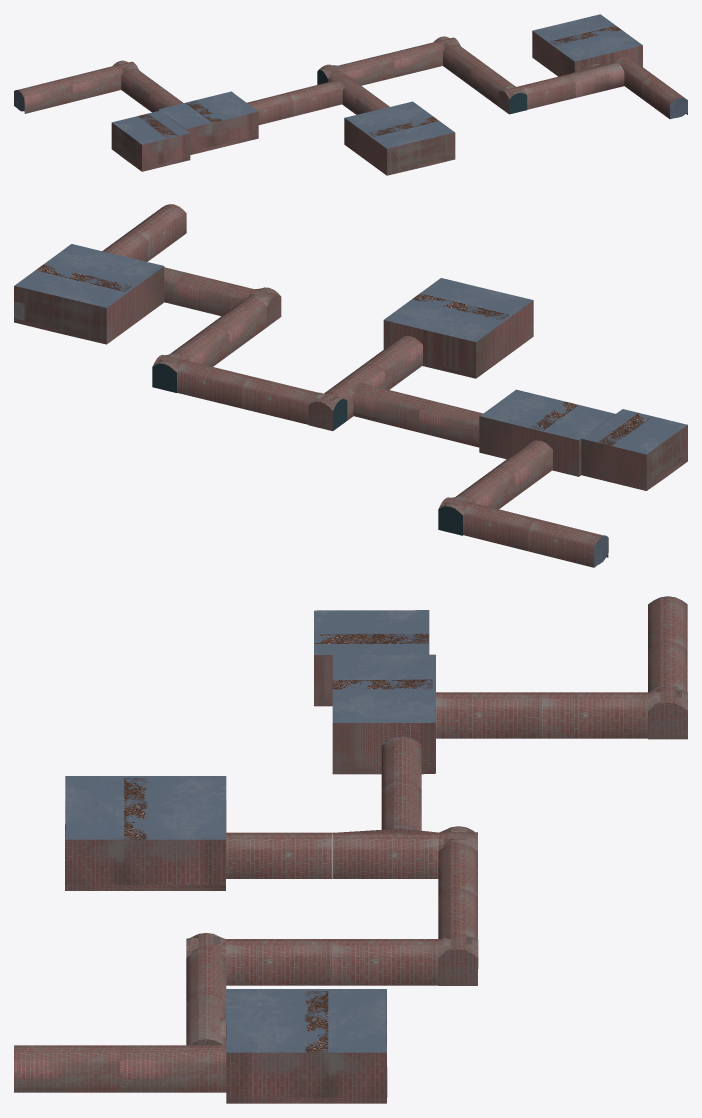
The model's file is room 5.fbx.
3 renders of one model, top to bottom at view 1: azimuth 30°, elevation 25°; view 2: azimuth 150°, elevation 25°; view 3: azimuth 270°, elevation 25°, orthographic. The views are drawn at different scales.
Visible parts, largest first — view 1: brick.020, base.008, base.013, brick.030, brick.016, brick.019, brick.022, base.015, brick.021, brick.014, brick.008, brick.010 (+8 smaller); view 2: brick.008, base.013, base.008, brick.020, brick.030, brick.016, brick.019, brick.022, base.015, brick.028, brick.014, brick.021 (+8 smaller); view 3: base.013, base.008, brick.018, brick.010, brick.014, brick.028, brick.020, brick.008, base.015, base.020, brick.021, brick.019 (+7 smaller).
Boxes of the visible parts, x1,y1,x2,y2 form: brick.020: (344,118,455,175); base.008: (532,14,642,61); base.013: (345,101,454,148); brick.030: (14,66,121,113); brick.016: (339,42,442,85); brick.019: (247,80,342,124); brick.022: (111,122,190,171); base.015: (158,91,258,129); brick.021: (158,109,258,154); brick.014: (443,44,515,106); brick.008: (532,31,642,76); brick.010: (615,57,687,118); brick.008: (14,266,164,344); base.013: (384,278,533,341); base.008: (14,244,163,307); brick.020: (383,300,533,378); brick.030: (463,503,608,567); brick.016: (177,360,317,424); brick.019: (353,383,482,447); brick.022: (581,425,687,490); base.015: (480,389,615,440); brick.028: (456,440,552,509); brick.014: (170,298,266,366); brick.021: (479,414,614,476); base.013: (65,776,226,839); base.008: (226,989,386,1052); brick.018: (226,826,438,878); brick.010: (14,1045,226,1092); brick.014: (226,939,438,985); brick.028: (436,692,647,738); brick.020: (65,801,226,890); brick.008: (226,996,386,1103); base.015: (332,654,435,722); base.020: (314,610,429,654); brick.021: (332,722,435,774); brick.019: (381,737,421,830).
Size of the model in its own units: 271 by 13.93 by 164.
